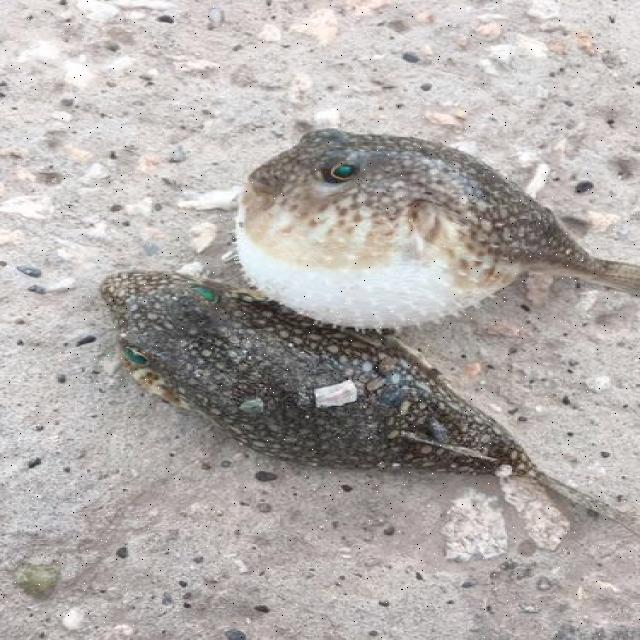Balik: (101, 272, 639, 531), (238, 130, 639, 327)
